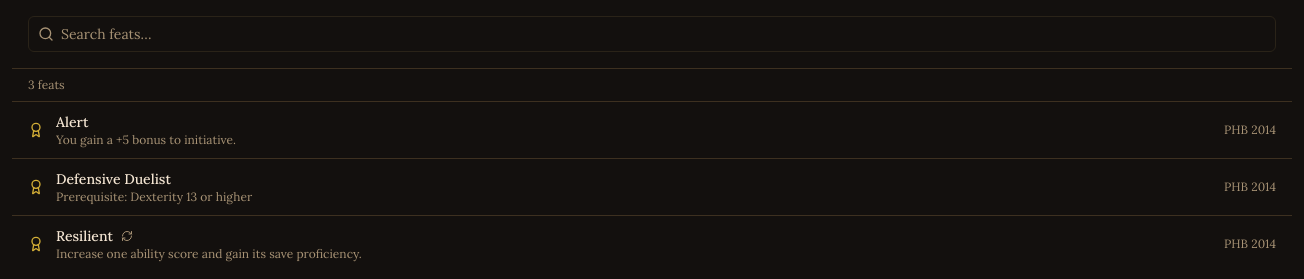
Test: FeatsTab › filters feats by search
Expected: the text "Alert" is shown, [56,112,88,132]
In the field with test id "feat-search": point(652, 34) [28,16,1276,52], type "resil"
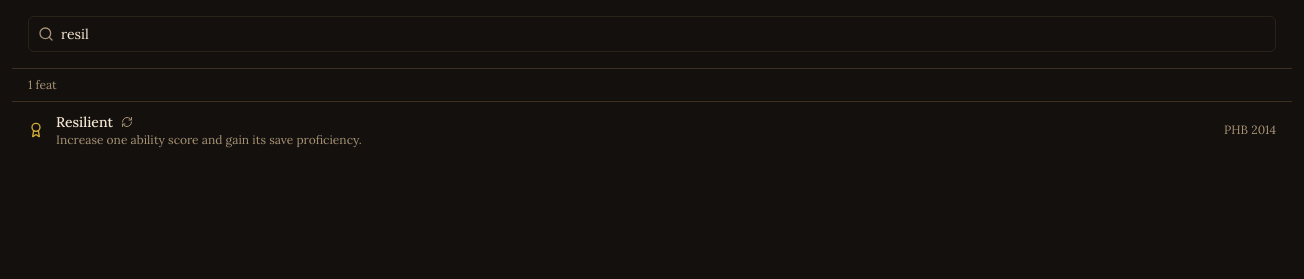
Expected: the text "Resilient" is shown, [56,112,113,132]
Expected: the button "Alert" is gone
